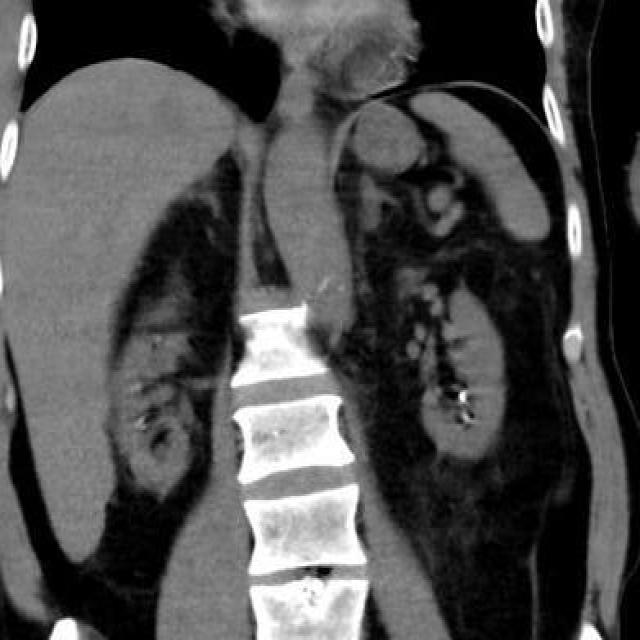Tas_Var: (460, 410, 473, 424), (458, 386, 468, 404)
